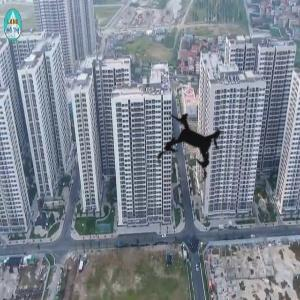drone: (133, 85, 255, 207)
